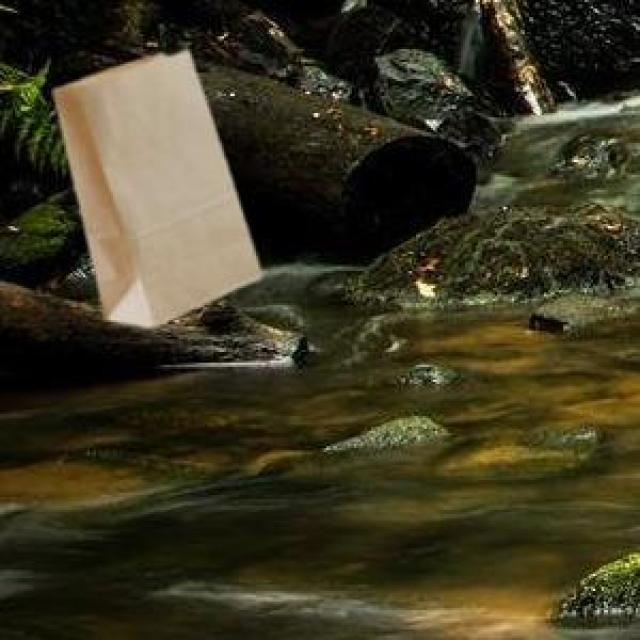PaperCardboard: (54, 47, 263, 332)
